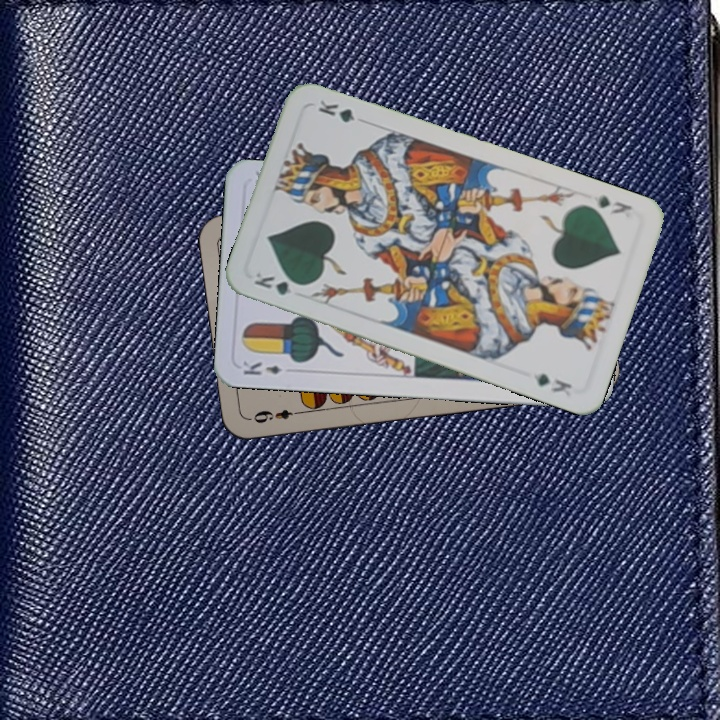E9: (247, 405, 306, 426)
EK: (239, 357, 284, 378)
GK: (250, 268, 308, 298), (594, 191, 635, 218)
